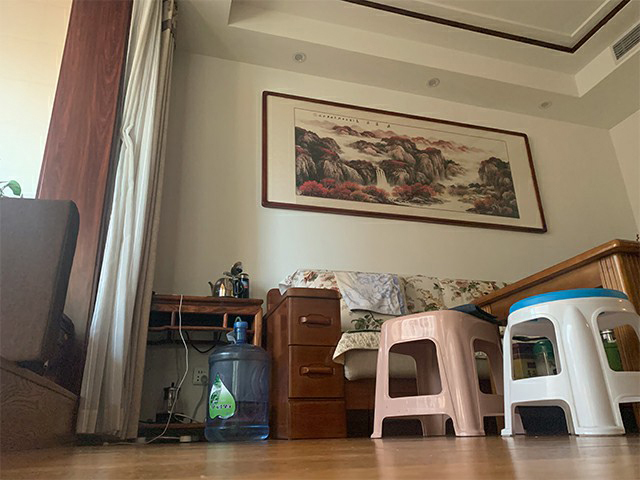curtain: (76, 1, 175, 445)
sofa: (262, 266, 507, 444)
stool: (500, 287, 640, 440), (369, 308, 525, 437)
table: (137, 292, 268, 443)
wire: (115, 294, 209, 445)
